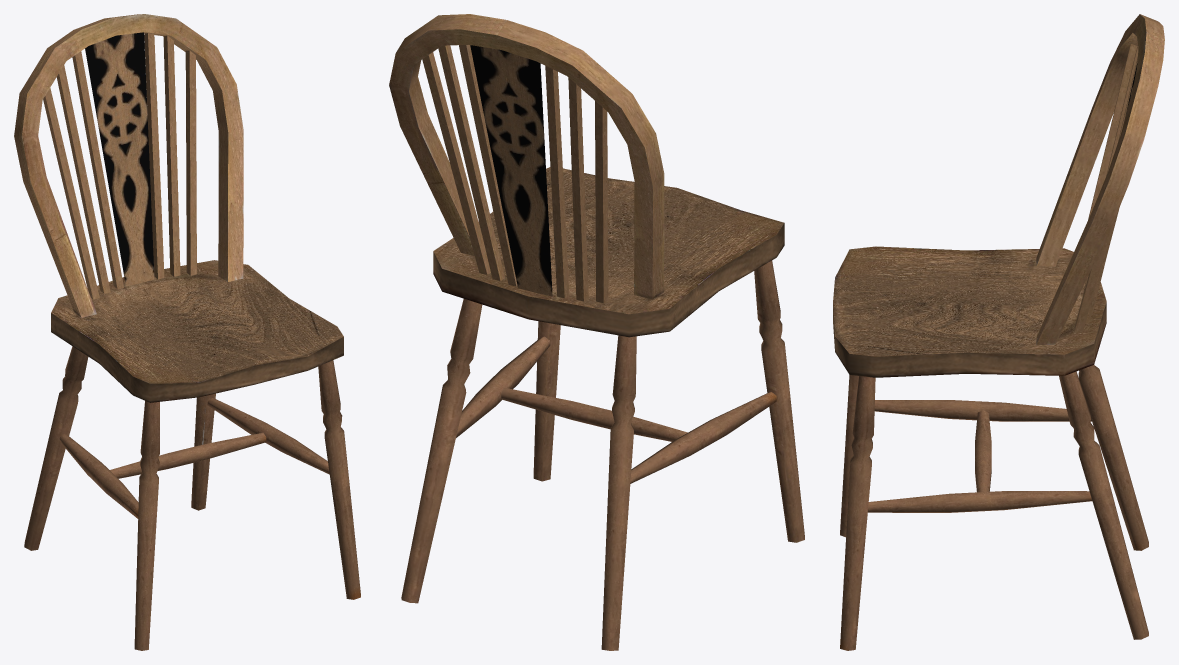
File: chair.glb
The picture shows the model from 3 angles, left to right: view 1: azimuth 30°, elevation 25°; view 2: azimuth 150°, elevation 25°; view 3: azimuth 270°, elevation 25°; orthographic projection. The views are drawn at different scales.
Parts seen in each view (by area): view 1: Cube_0; view 2: Cube_0; view 3: Cube_0.
Boxes of the visible parts, box(x1,y1,x2,y2) form: Cube_0: box(14, 14, 360, 650); Cube_0: box(389, 14, 804, 650); Cube_0: box(833, 14, 1164, 650).
Size of the model in its own units: 0.4455 by 0.956 by 0.5123.
Materials: 1 (1 with a texture image).
